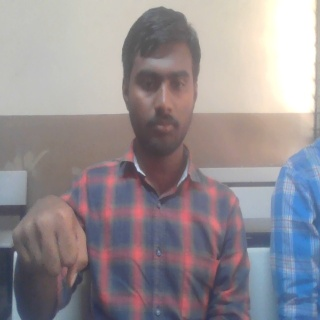Face: (121, 6, 202, 155)
Yes: (11, 194, 93, 286)
